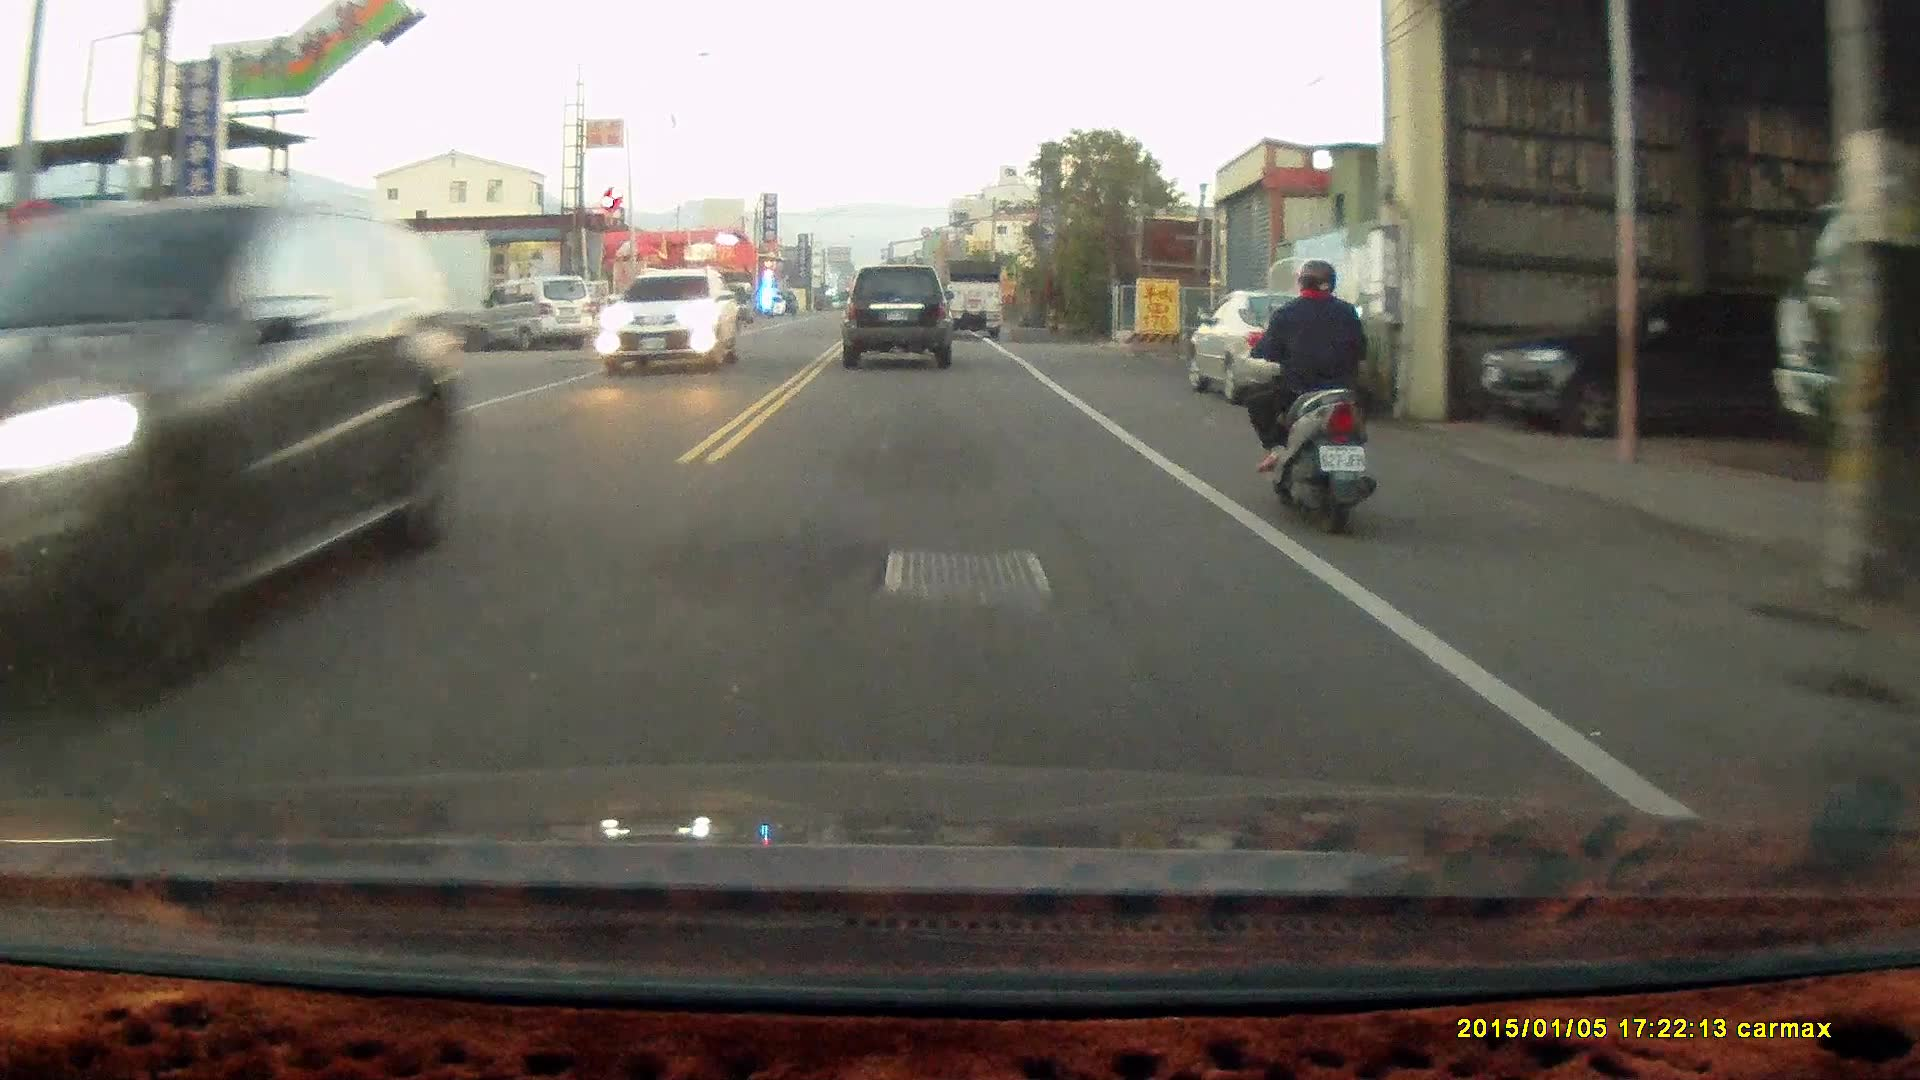rider: (1234, 256, 1377, 536)
vehicle: (1, 195, 482, 715), (1484, 294, 1808, 438), (1187, 280, 1380, 404), (596, 271, 744, 381), (843, 264, 955, 371), (484, 275, 592, 357), (936, 258, 1006, 340)
